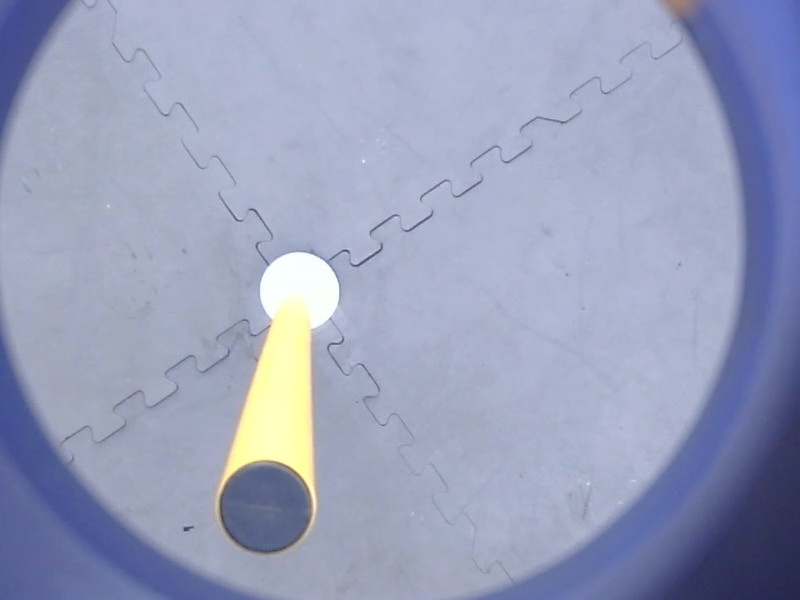tip: (210, 455, 323, 562)
